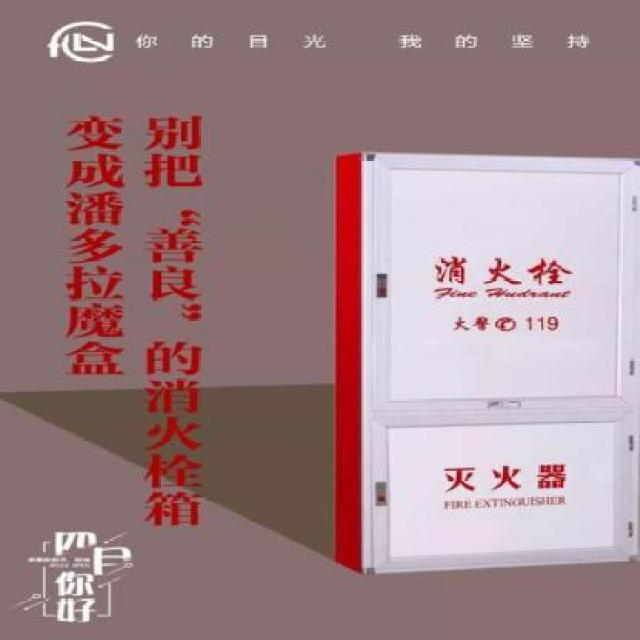firehydrant: (327, 147, 640, 580)
